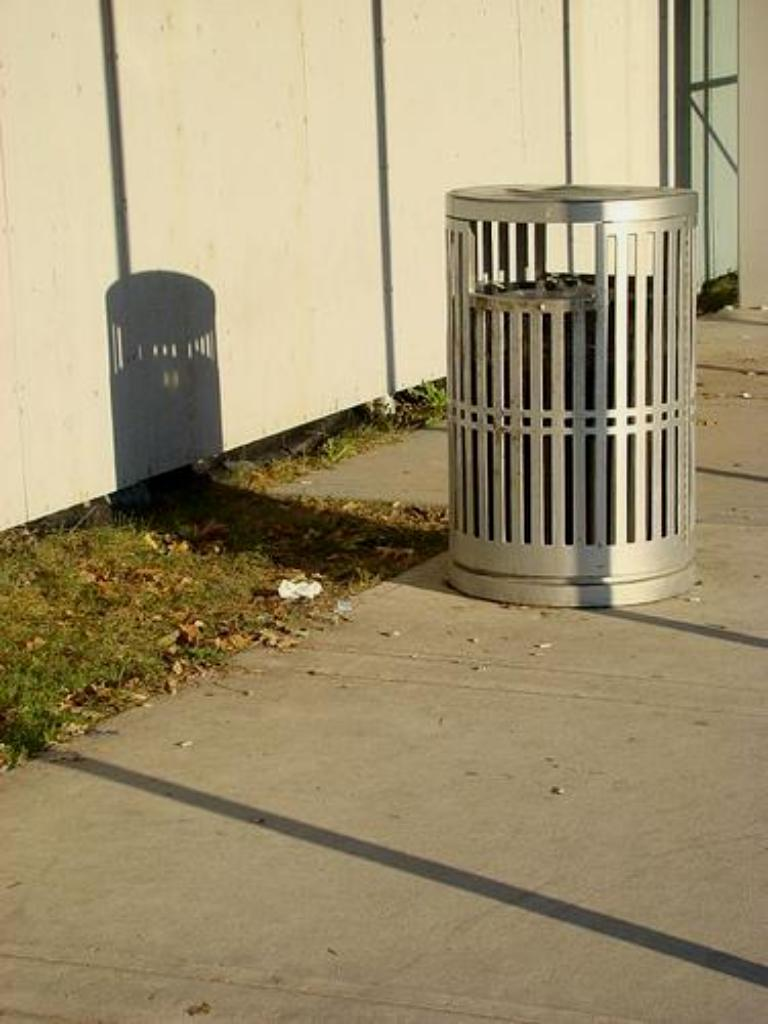dustbin: (435, 177, 716, 617)
